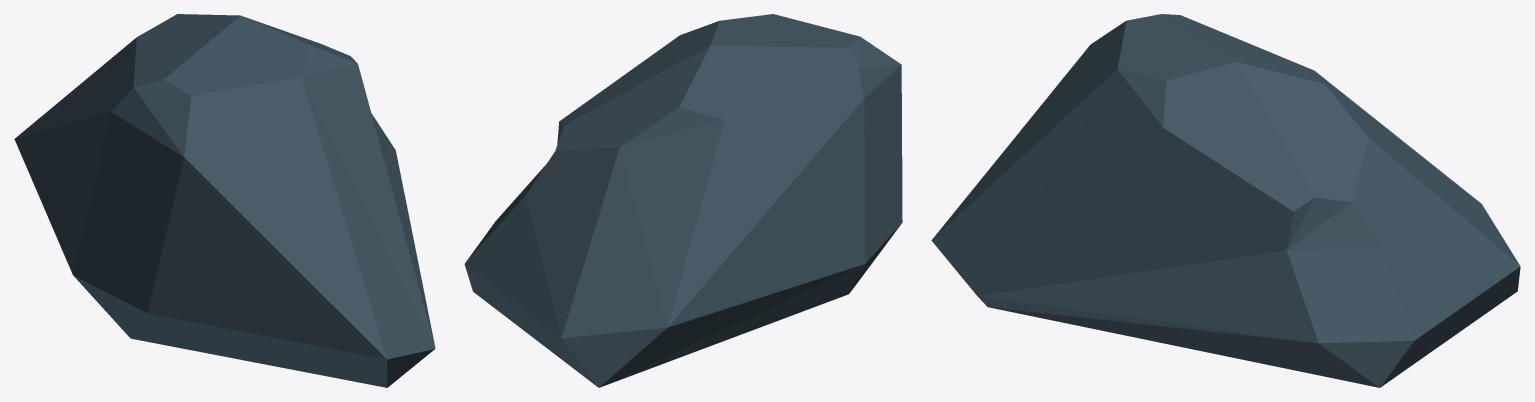
File: sm_env_Rock01.fbx
The picture shows the model from 3 angles, left to right: view 1: azimuth 30°, elevation 25°; view 2: azimuth 150°, elevation 25°; view 3: azimuth 270°, elevation 25°; orthographic projection. The views are drawn at different scales.
Visible parts, largest first — view 1: Rock01; view 2: Rock01; view 3: Rock01.
Part boxes in pixels (x1,y1,x2,y2): Rock01: (14,14,435,387); Rock01: (464,14,902,387); Rock01: (931,14,1520,387).
Size of the model in its own units: 115 by 79.77 by 176.
